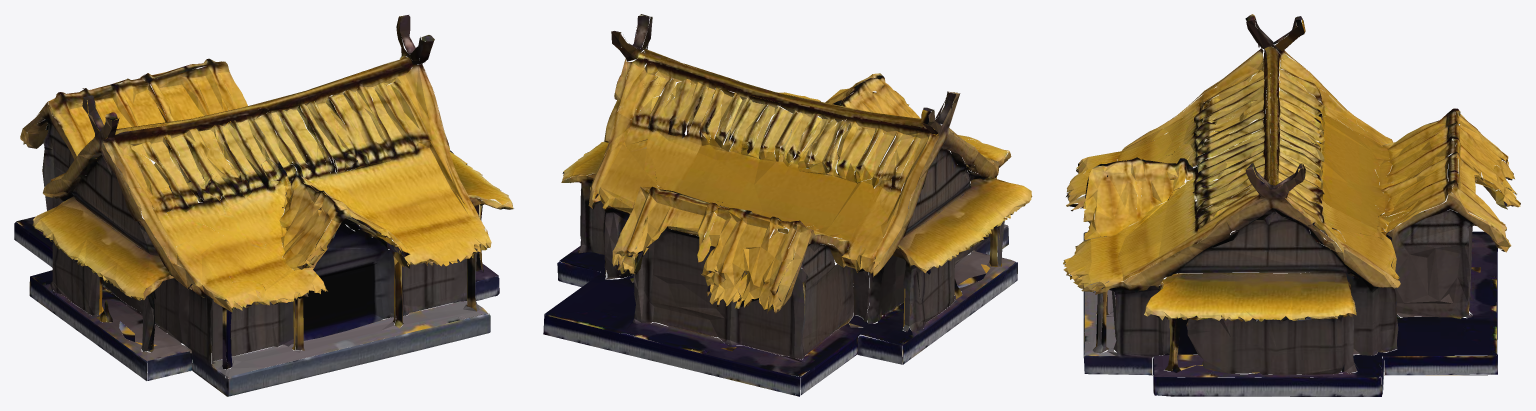
File: 12_li_boat_house.glb
3 renders of one model, left to right at view 1: azimuth 30°, elevation 25°; view 2: azimuth 150°, elevation 25°; view 3: azimuth 270°, elevation 25°, orthographic. The views are drawn at different scales.
Visible parts, largest first — view 1: 12_li_boat_house.ply; view 2: 12_li_boat_house.ply; view 3: 12_li_boat_house.ply.
Boxes of the visible parts, x1,y1,x2,y2 form: 12_li_boat_house.ply: [14, 15, 513, 396]; 12_li_boat_house.ply: [543, 14, 1032, 396]; 12_li_boat_house.ply: [1063, 14, 1520, 396].
Bounding box in the file's own units: 0.9638 × 0.5359 × 1.
1 material, 1 textured.
